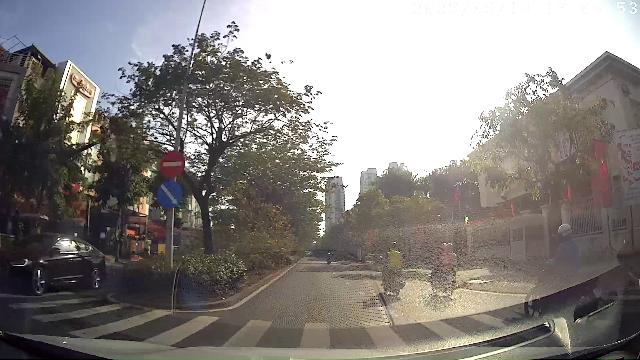102-cam-di-nguoc-chieu: (159, 151, 185, 178)
302a-huong-phai-di-vong-chuong-ngai-vat-1: (157, 181, 183, 208)
